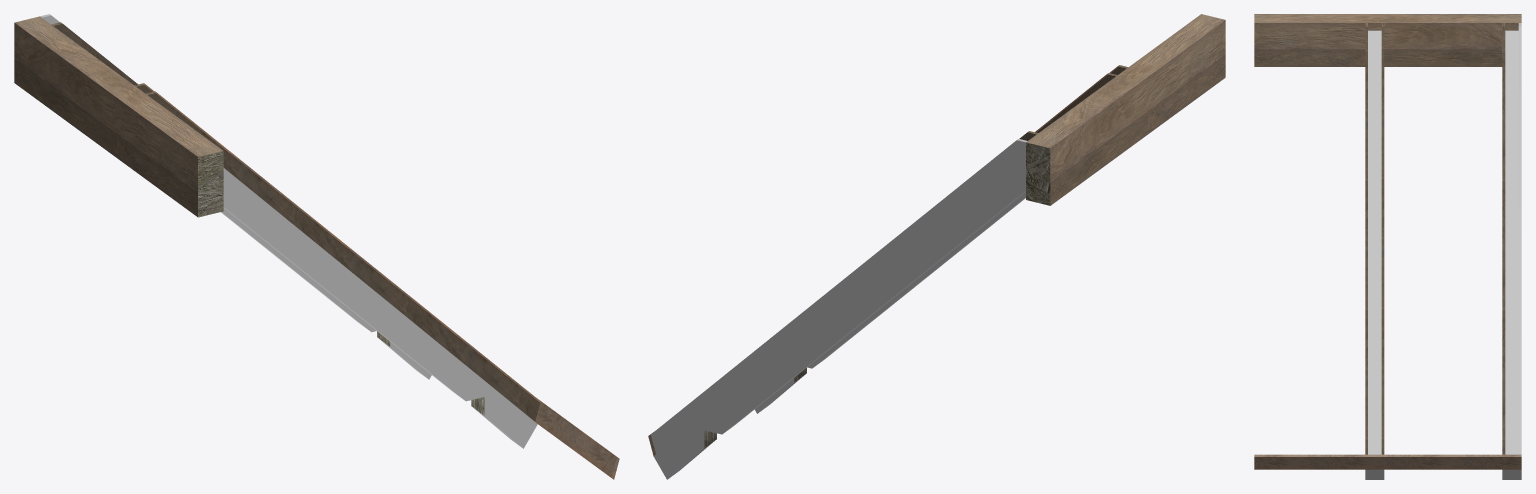
The model's file is RafterCornerMidA.fbx.
The picture shows the model from 3 angles, left to right: view 1: azimuth 30°, elevation 25°; view 2: azimuth 150°, elevation 25°; view 3: azimuth 270°, elevation 25°; orthographic projection. The views are drawn at different scales.
Parts seen in each view (by area): view 1: RafterCornerMidA; view 2: RafterCornerMidA; view 3: RafterCornerMidA.
Part boxes in pixels (box(x1,y1,x2,y2)): RafterCornerMidA: box(14, 14, 619, 479); RafterCornerMidA: box(648, 14, 1225, 479); RafterCornerMidA: box(1254, 14, 1521, 479).
Size of the model in its own units: 495 by 500 by 374.
